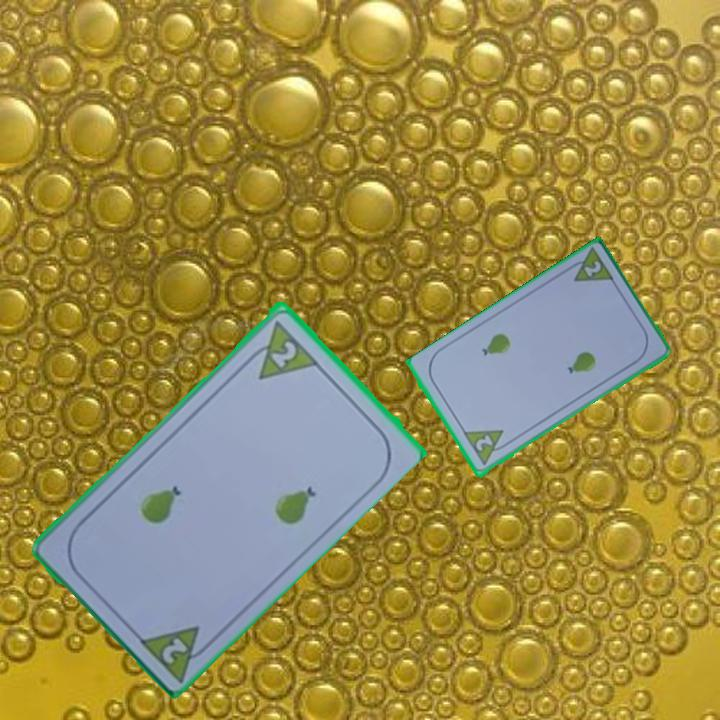2p: (241, 315, 320, 382), (460, 426, 513, 469), (158, 632, 191, 667), (580, 257, 604, 280)
